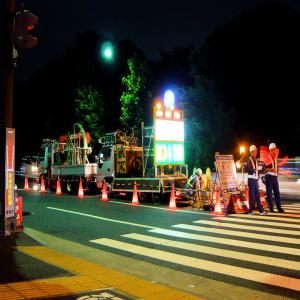white: (269, 144, 279, 157), (250, 145, 259, 159), (196, 168, 203, 180)
